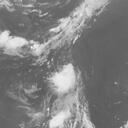cyclone: (46, 62, 78, 97)
